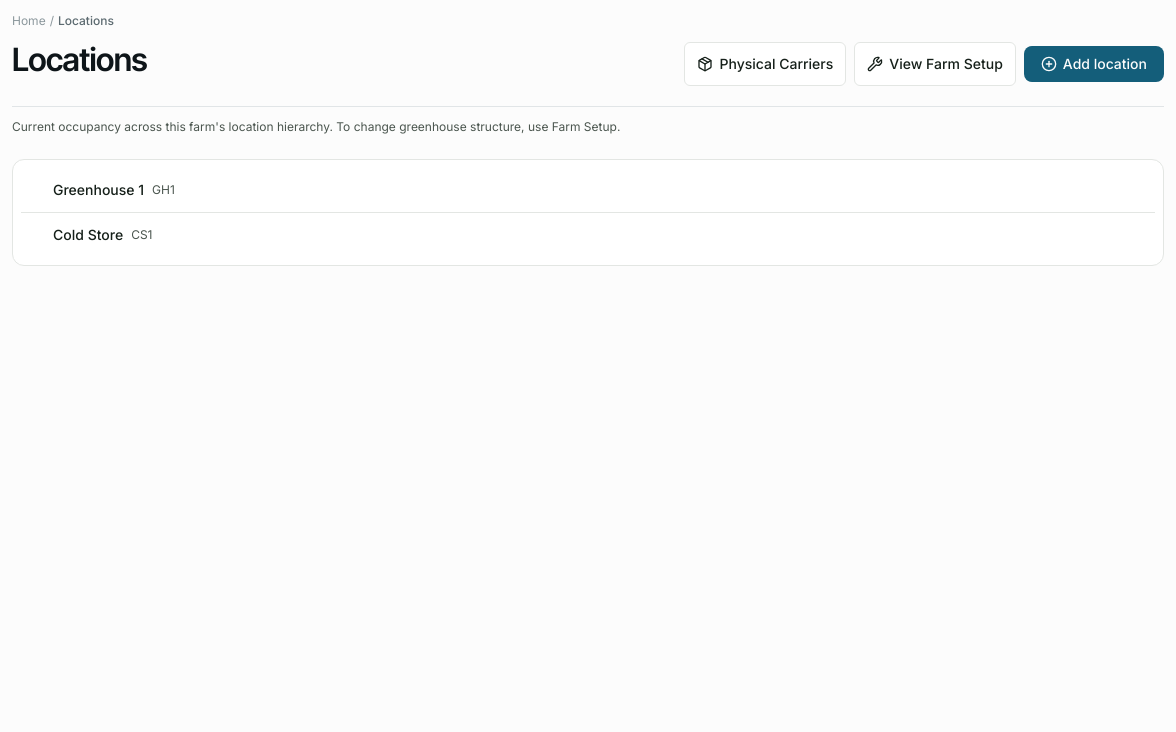
LocationsPage › submits a valid single create as exactly one mutation and refreshes the tree
Expected: the text "Greenhouse 1" is shown, [53,180,144,200]
Click the button "Add location": (1094, 64) [1024,46,1164,82]
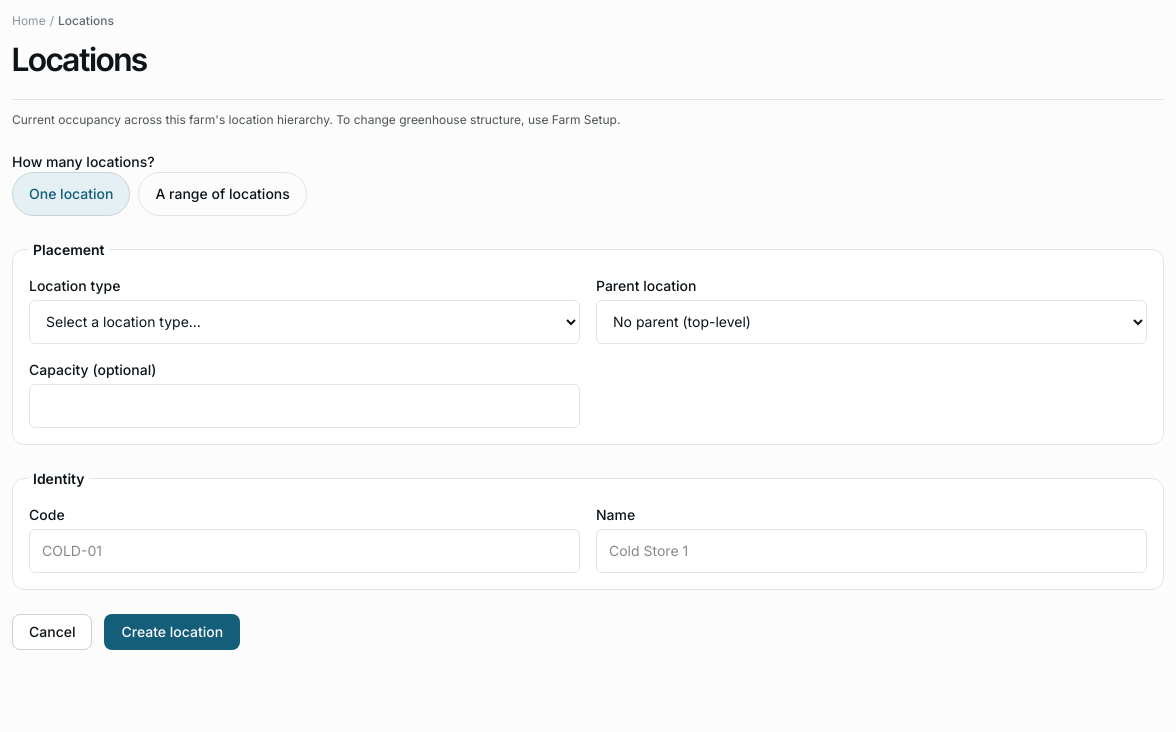
Select "Packing Hall" in the dropdown labelled "Location type": (304, 322) [29,300,580,344]
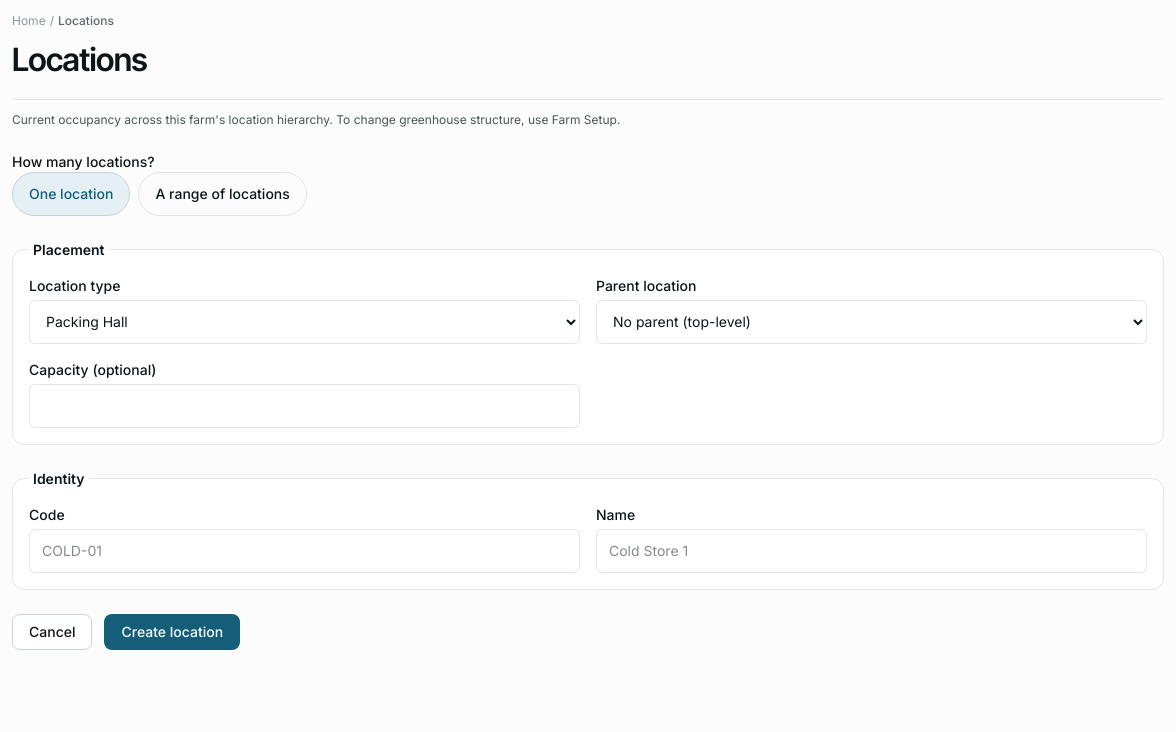
In the field labelled "Code": (304, 551) [29,529,580,573], type "PH1"
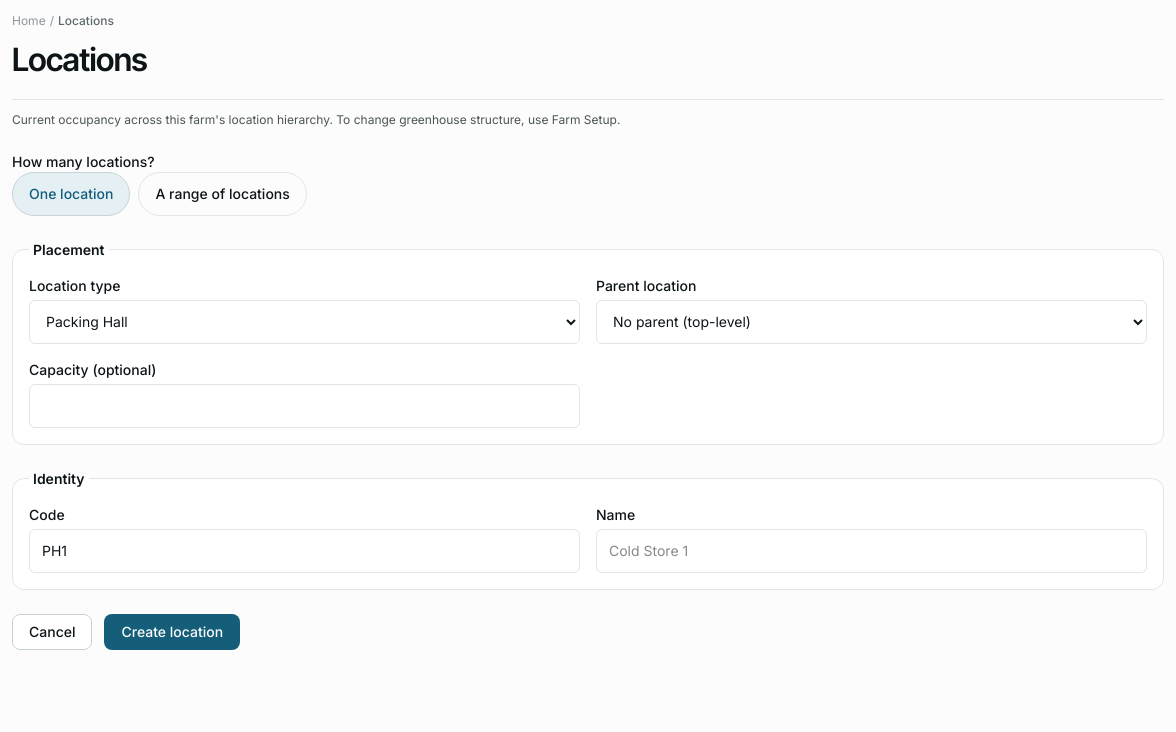
In the field labelled "Name": (872, 551) [596,529,1147,573], type "Packing Hall 1"
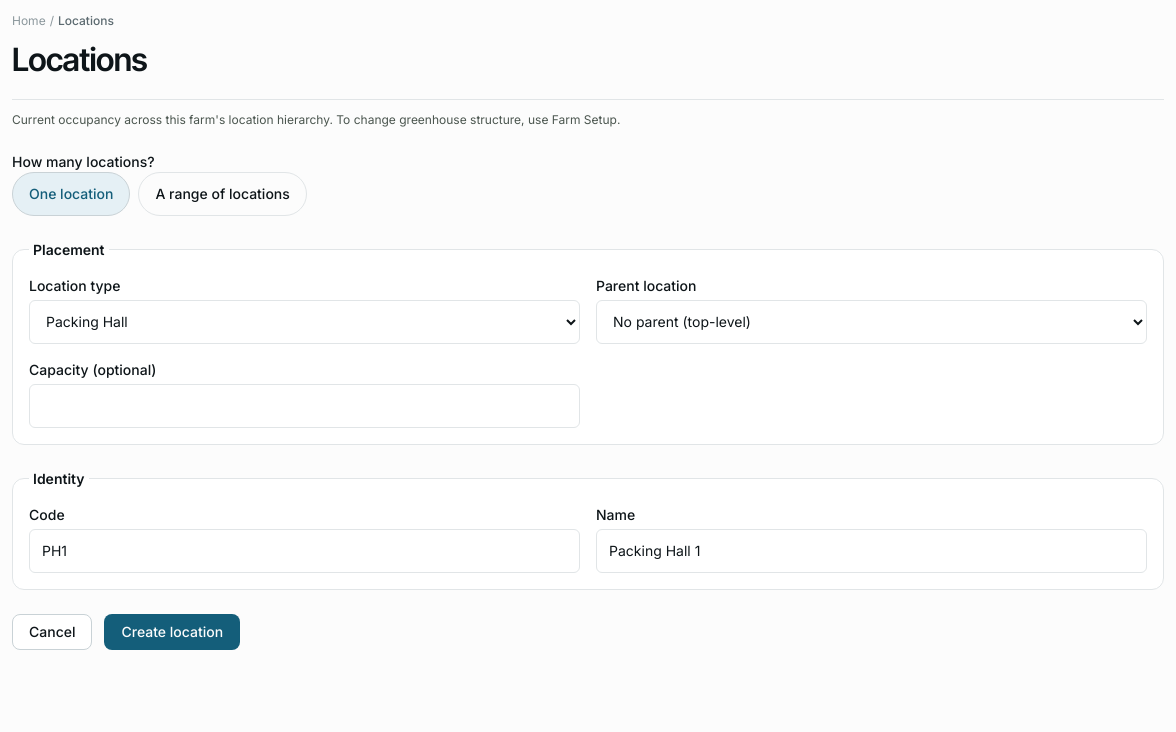
Click the button "Create location": (172, 632) [104,614,240,650]
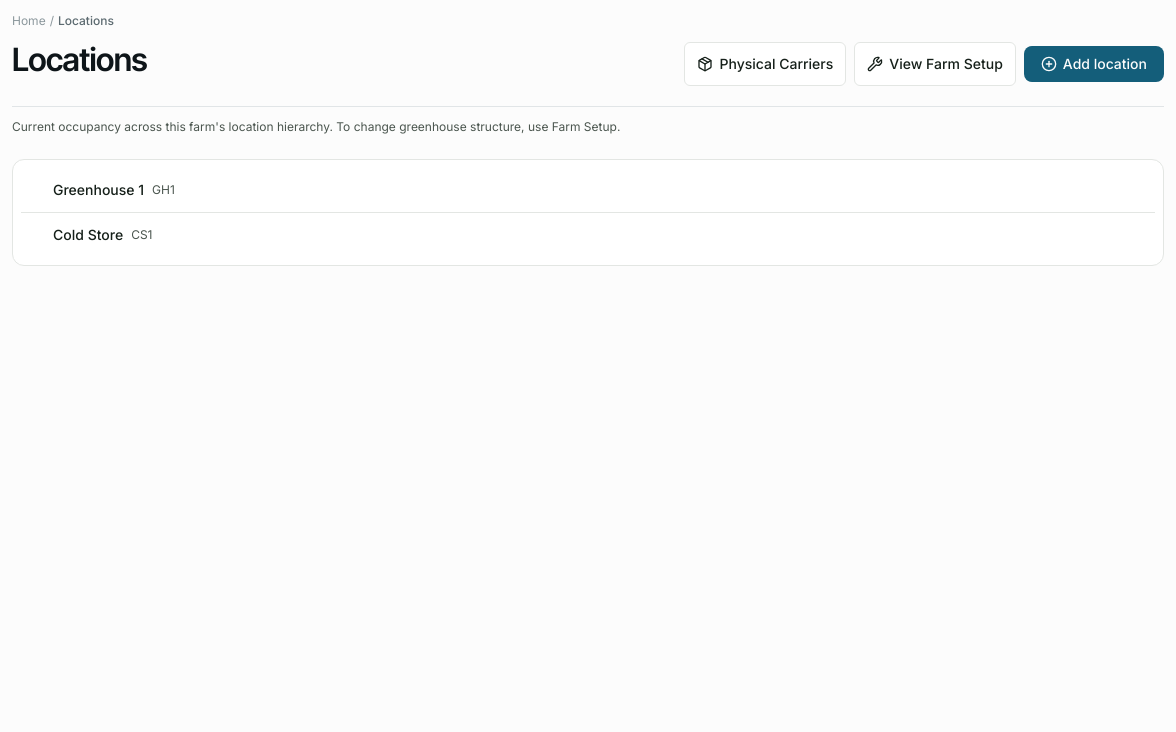
Expected: the text "Placement" is gone
